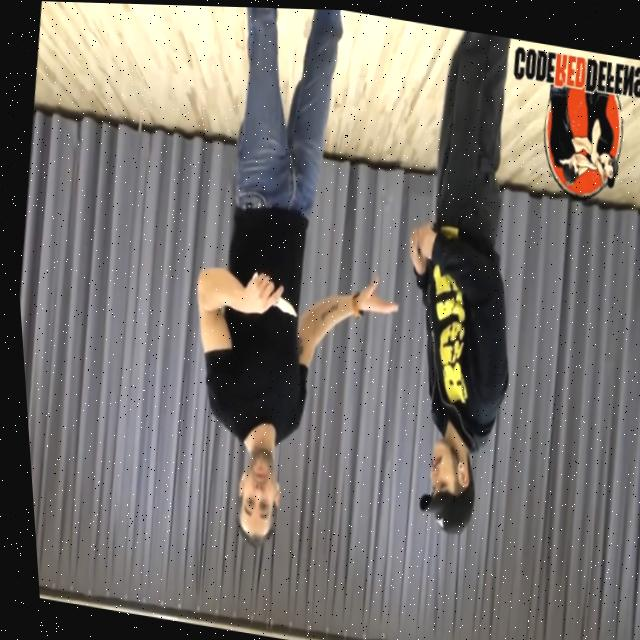knife: (271, 294, 297, 318)
